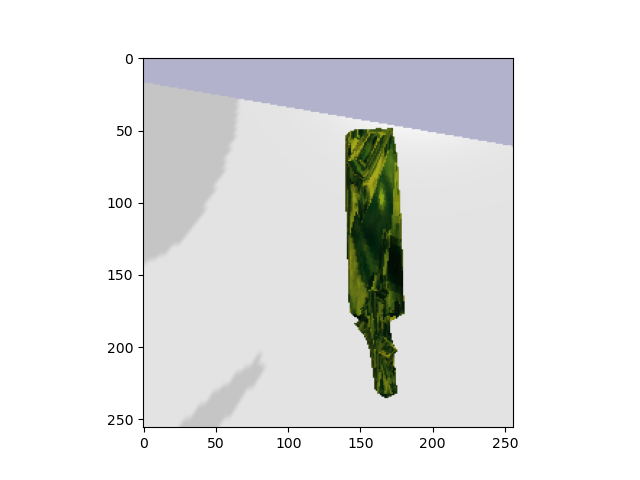v249b387_108: (329, 121, 433, 408)
